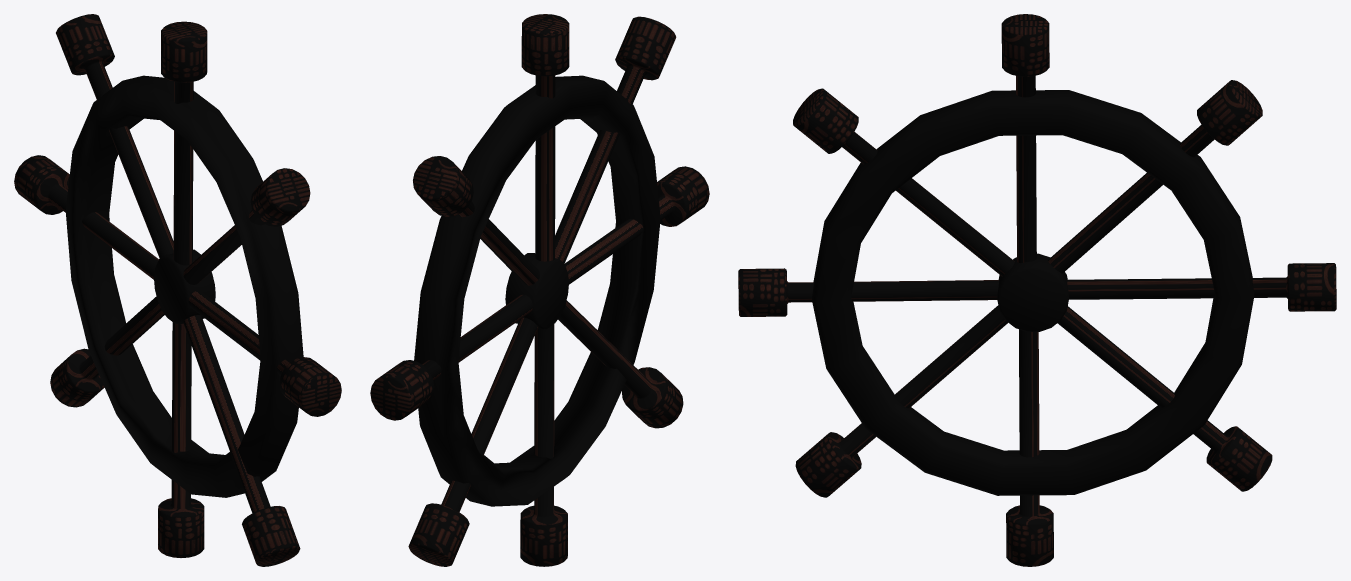
File: Wheel.fbx
The picture shows the model from 3 angles, left to right: view 1: azimuth 30°, elevation 25°; view 2: azimuth 150°, elevation 25°; view 3: azimuth 270°, elevation 25°; orthographic projection. The views are drawn at different scales.
Parts seen in each view (by area): view 1: Cylinder.003; view 2: Cylinder.003; view 3: Cylinder.003.
Boxes of the visible parts, left/top/right/bottom form: Cylinder.003: left=14, top=14, right=341, bottom=566; Cylinder.003: left=370, top=14, right=709, bottom=566; Cylinder.003: left=738, top=14, right=1336, bottom=566.
Bounding box in the file's own units: 373 × 3659 × 3711.
1 material, 1 textured.
